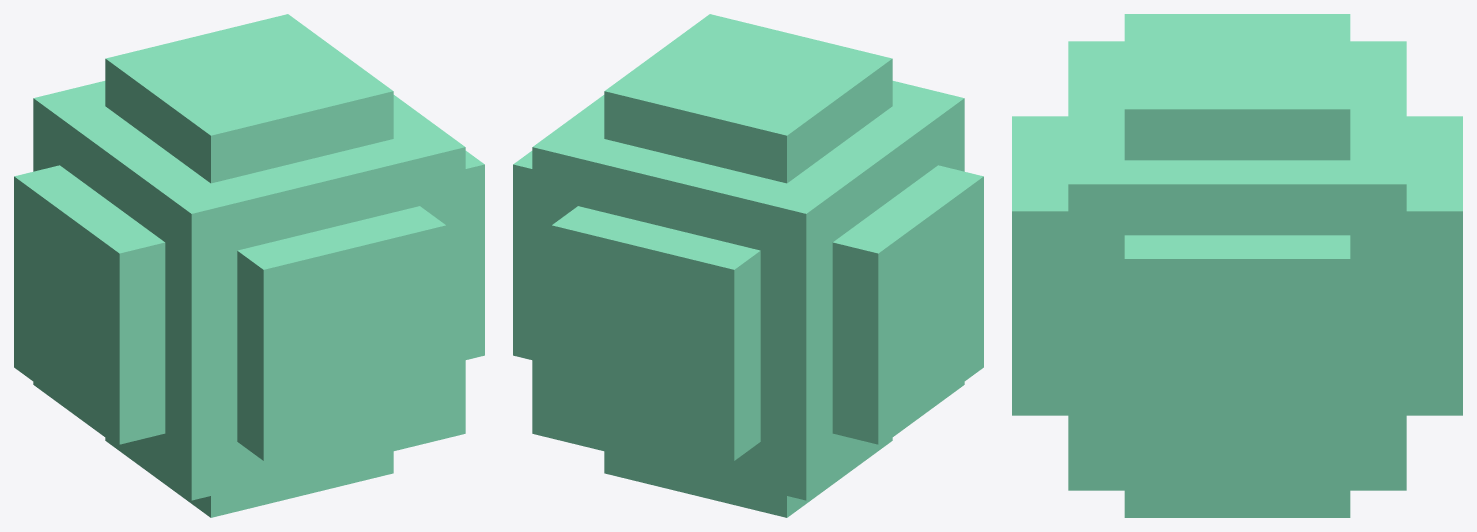
The model's file is proyectil_mago.dae.
3 renders of one model, left to right at view 1: azimuth 30°, elevation 25°; view 2: azimuth 150°, elevation 25°; view 3: azimuth 270°, elevation 25°, orthographic. The views are drawn at different scales.
Parts seen in each view (by area): view 1: proyectil_mago; view 2: proyectil_mago; view 3: proyectil_mago.
Boxes of the visible parts, x1,y1,x2,y2 form: proyectil_mago: (14,14,484,517); proyectil_mago: (513,14,983,517); proyectil_mago: (1012,14,1462,517).
Size of the model in its own units: 8 by 8 by 8.
Materials: 1 (1 with a texture image).
